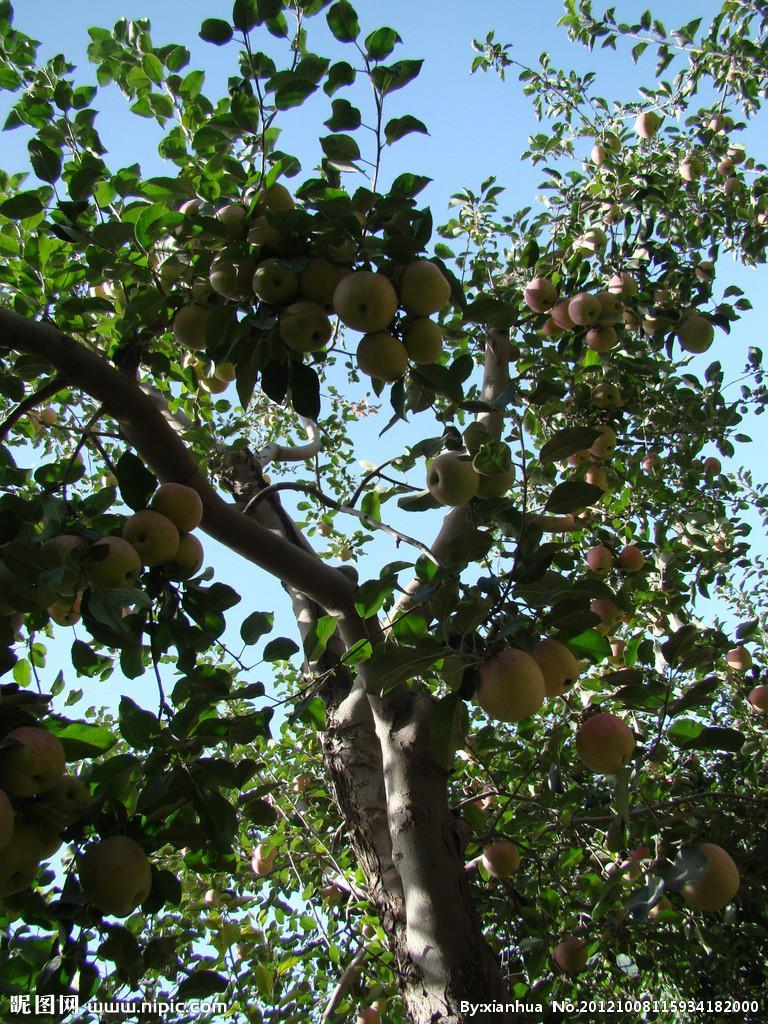apple: (78, 834, 151, 919), (469, 644, 542, 722), (1, 727, 65, 799), (118, 507, 182, 573), (332, 271, 397, 334), (575, 710, 635, 775), (425, 444, 479, 509), (396, 256, 449, 318), (83, 535, 142, 589), (529, 638, 579, 698), (278, 302, 332, 357), (145, 482, 202, 534), (355, 330, 408, 382), (297, 256, 347, 307), (251, 257, 298, 307), (402, 316, 441, 364), (550, 935, 589, 975), (523, 275, 557, 314), (566, 292, 600, 326), (584, 323, 616, 353), (584, 545, 612, 573), (617, 544, 644, 573)
